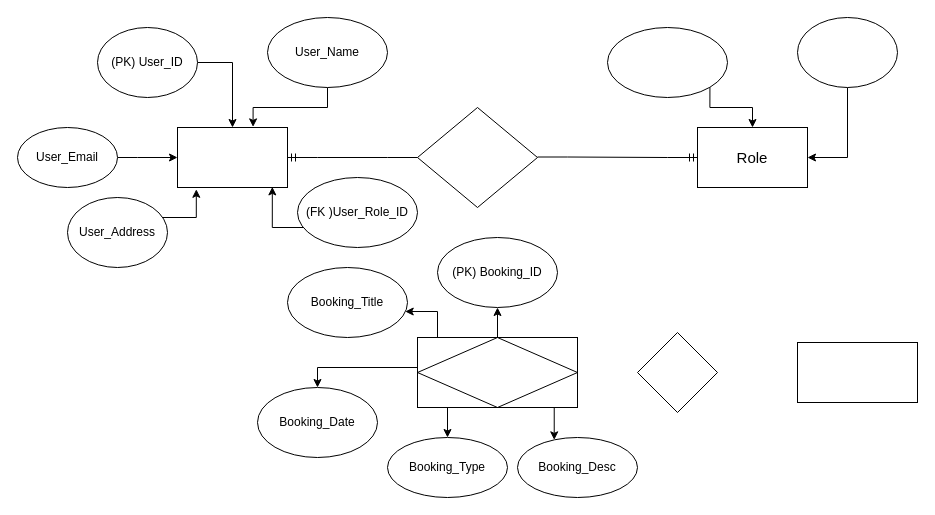
Image size: 935x515. Some labels were removed from this diagram. Here are the shapes that lost their labels. From the top down, the centre of each, then its label:
At (667,62): "Role_Name".
At (847,52): "(PK) Role_ID".
At (232,157): "User".
At (477,157): "Has".
At (497,372): "Booking".
